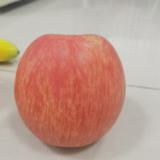apple: (15, 34, 125, 149)
